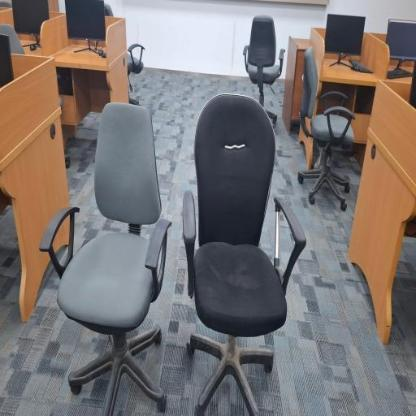chair: (173, 85, 314, 416), (34, 97, 177, 411), (237, 8, 289, 122)
